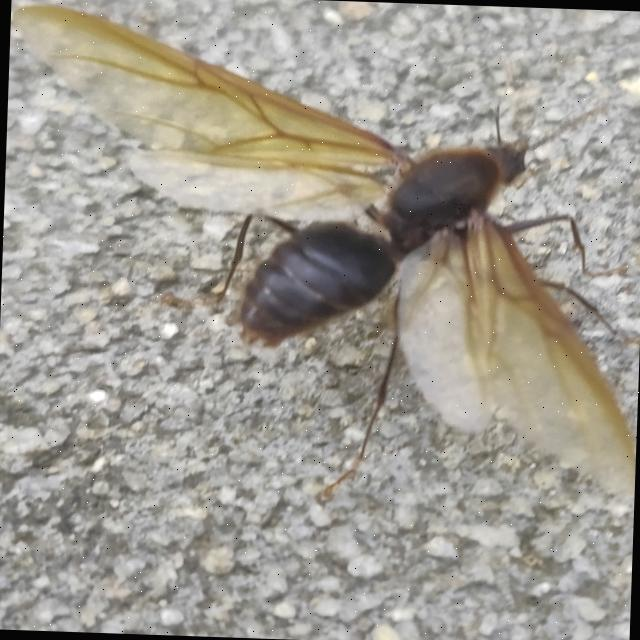Alive-Male-Alate: (0, 2, 640, 512)
